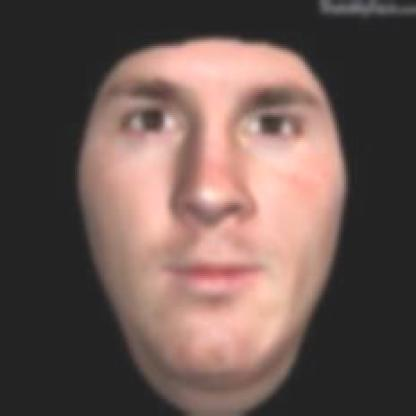without_mask: (115, 92, 321, 355)
